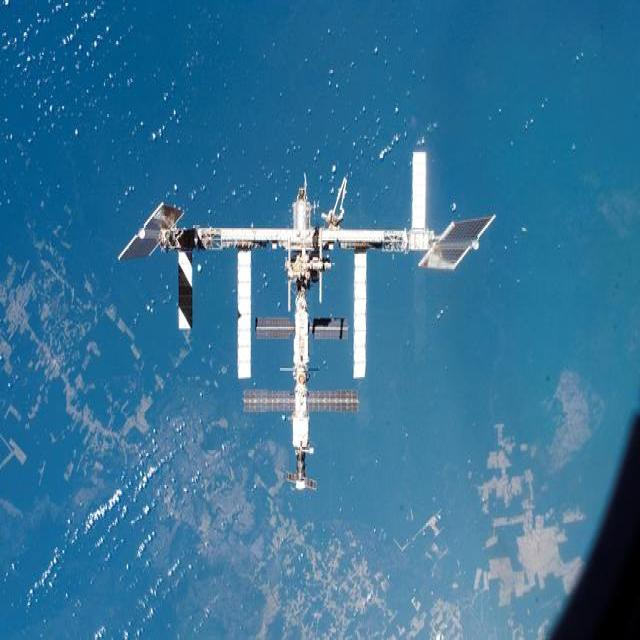satellite: (109, 141, 499, 495)
